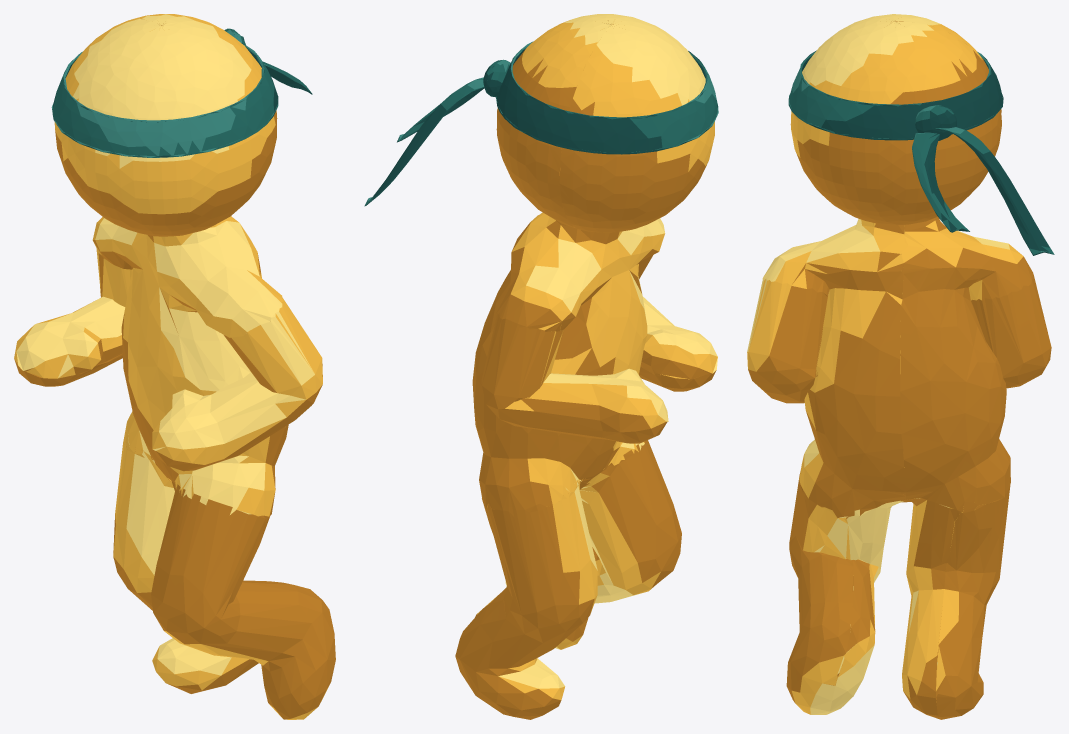
Rendered from Ninja_Jog0_L.gltf.
3 views of the same model, side by side, from view 1: azimuth 30°, elevation 25°; view 2: azimuth 150°, elevation 25°; view 3: azimuth 270°, elevation 25° (orthographic). The views are drawn at different scales.
Visible parts, largest first — view 1: Ninja_Jog0_L_baked; view 2: Ninja_Jog0_L_baked; view 3: Ninja_Jog0_L_baked.
Boxes of the visible parts, x1,y1,x2,y2 form: Ninja_Jog0_L_baked: (14,14,335,719); Ninja_Jog0_L_baked: (364,14,718,719); Ninja_Jog0_L_baked: (747,14,1054,719).
Size of the model in its own units: 0.4199 by 1 by 0.4207.
